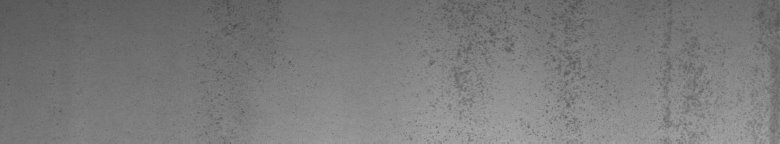ib: (425, 4, 607, 128)
